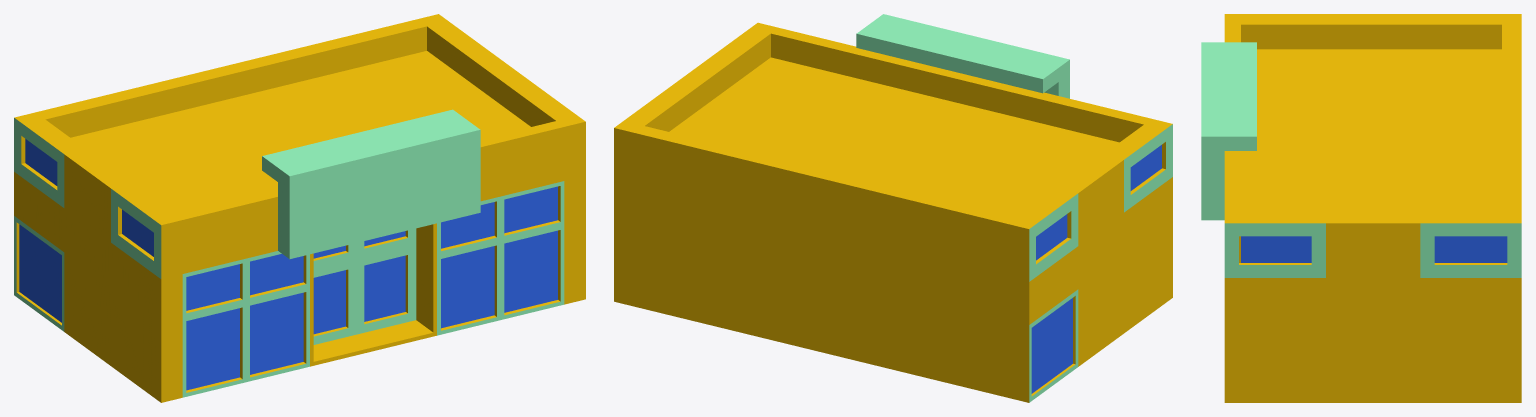
3 views of the same model, side by side, from view 1: azimuth 30°, elevation 25°; view 2: azimuth 150°, elevation 25°; view 3: azimuth 270°, elevation 25° (orthographic). The views are drawn at different scales.
Parts seen in each view (by area): view 1: 8; view 2: 8; view 3: 8.
Part boxes in pixels (x1,y1,x2,y2): 8: (14, 14, 585, 402); 8: (614, 14, 1172, 402); 8: (1201, 14, 1521, 402).
Size of the model in its own units: 2000 by 930 by 1294.
